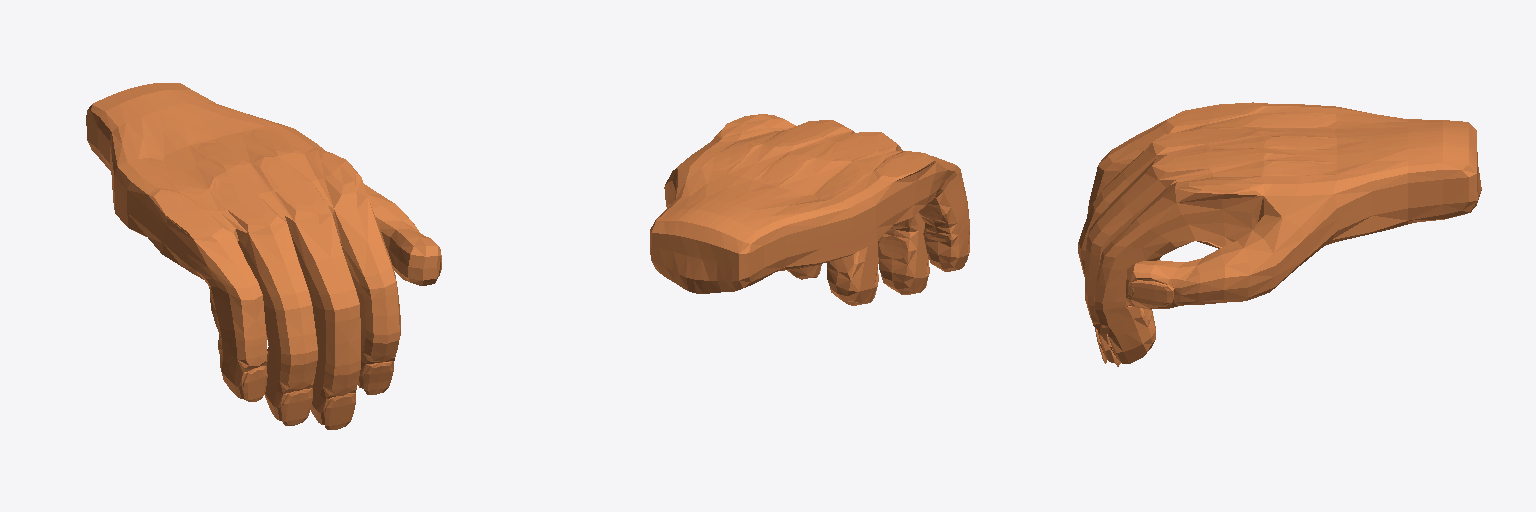
The model's file is hand6.obj.
The picture shows the model from 3 angles: view 1: azimuth 30°, elevation 25°; view 2: azimuth 150°, elevation 25°; view 3: azimuth 270°, elevation 25°; orthographic projection.
Parts seen in each view (by area): view 1: Box001; view 2: Box001; view 3: Box001.
Part boxes in pixels (bbox=[...]): Box001: bbox=[86, 83, 441, 429]; Box001: bbox=[650, 114, 969, 305]; Box001: bbox=[1078, 102, 1481, 366].
Size of the model in its own units: 196 by 169 by 283.